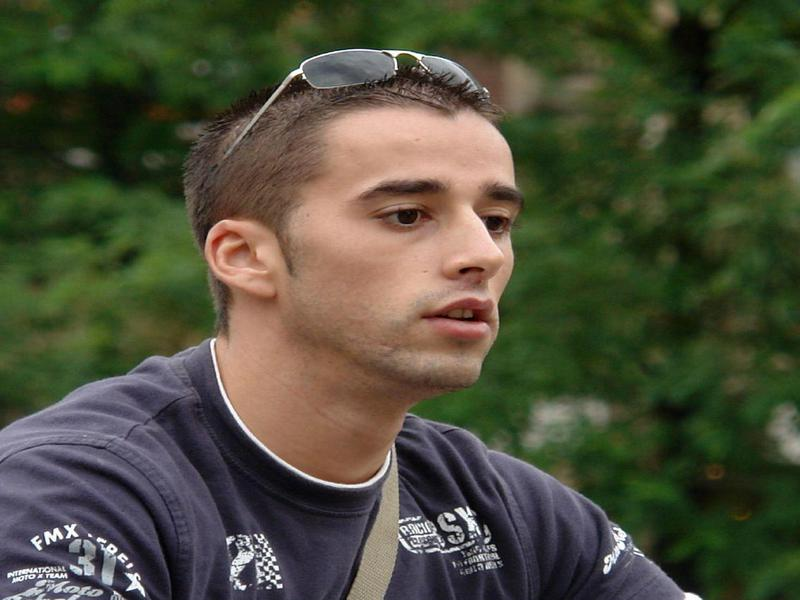person: (1, 47, 696, 596)
